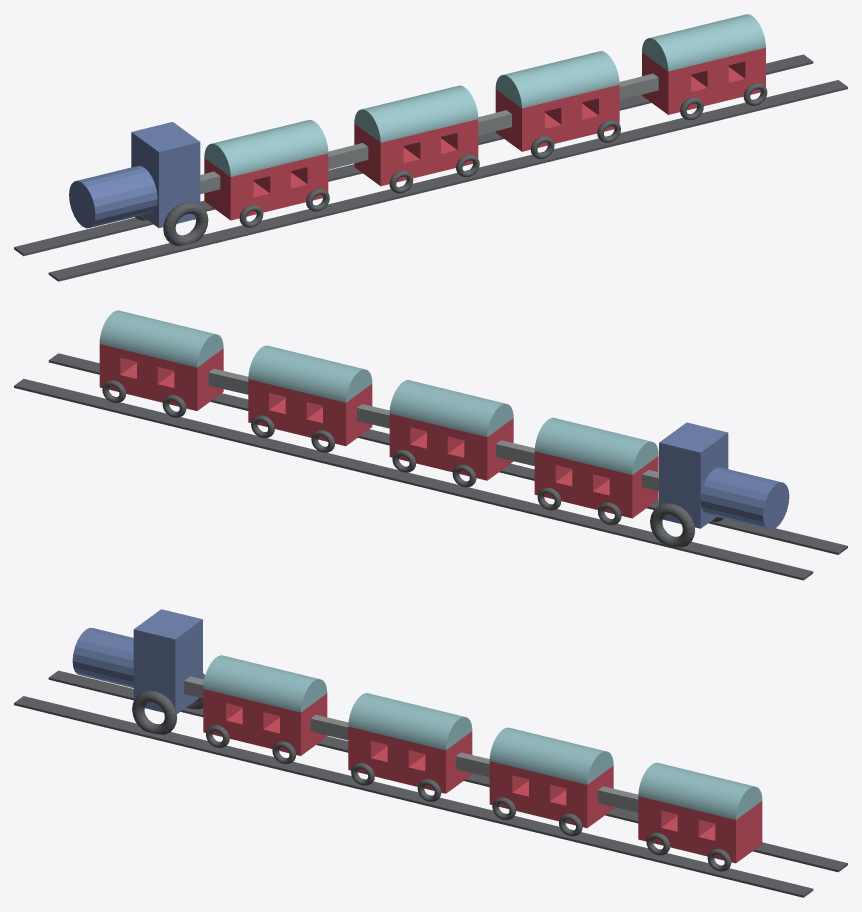
File: train.glb
The picture shows the model from 3 angles, top to bottom: view 1: azimuth 30°, elevation 25°; view 2: azimuth 150°, elevation 25°; view 3: azimuth 330°, elevation 25°; orthographic projection.
Parts seen in each view (by area): view 1: Mesh_Mesh_head_geo.001_lambert2SG.001; view 2: Mesh_Mesh_head_geo.001_lambert2SG.001; view 3: Mesh_Mesh_head_geo.001_lambert2SG.001.
Boxes of the visible parts, left/top/right/bottom form: Mesh_Mesh_head_geo.001_lambert2SG.001: left=14, top=14, right=847, bottom=281; Mesh_Mesh_head_geo.001_lambert2SG.001: left=14, top=310, right=847, bottom=580; Mesh_Mesh_head_geo.001_lambert2SG.001: left=14, top=609, right=847, bottom=897.
Bounding box in the file's own units: 380 × 45 × 37.
